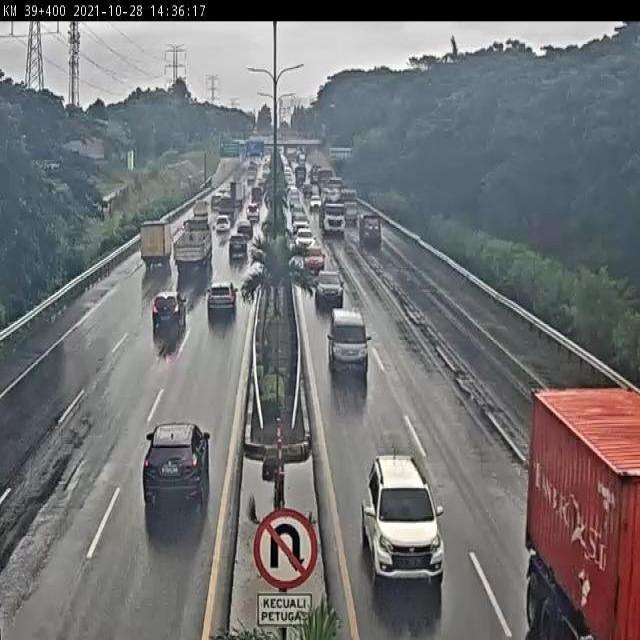big truck: (171, 224, 215, 279), (319, 200, 348, 237)
car: (360, 452, 449, 585), (143, 421, 213, 515), (326, 304, 371, 376), (149, 289, 188, 335), (202, 276, 237, 321), (314, 266, 344, 302), (302, 242, 325, 274), (226, 231, 248, 260), (294, 227, 315, 252), (233, 219, 253, 241), (213, 213, 232, 236)
small truck: (137, 219, 175, 276), (355, 212, 382, 245)
